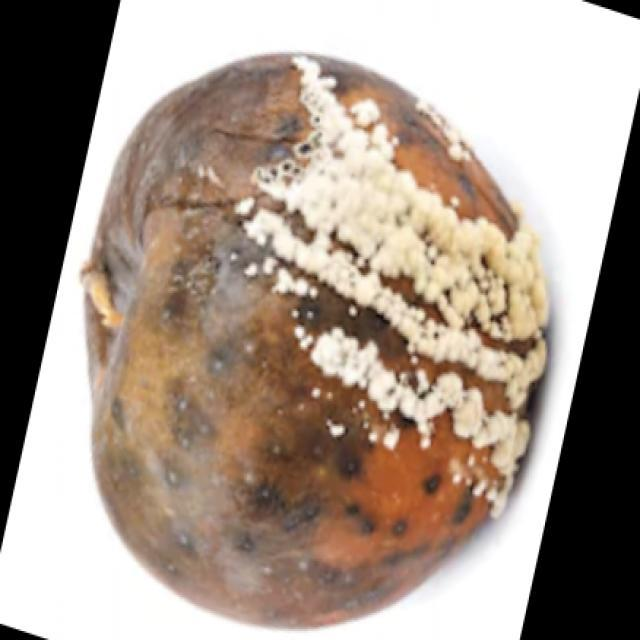Rotten: (87, 56, 533, 602)
